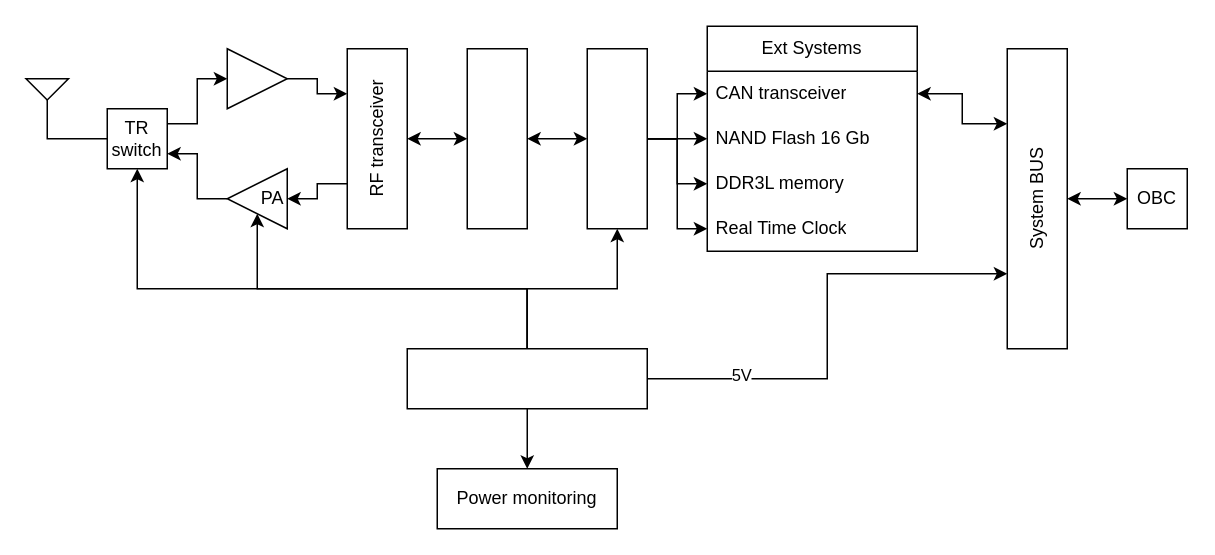
Image size: 1215x555. Some labels were removed from this diagram. Each missing label, with the box of its shape:
CPU: (586, 47, 647, 229)
FPGA: (466, 47, 527, 229)
LNA: (226, 47, 287, 109)
Power Distribution System: (406, 347, 647, 409)
